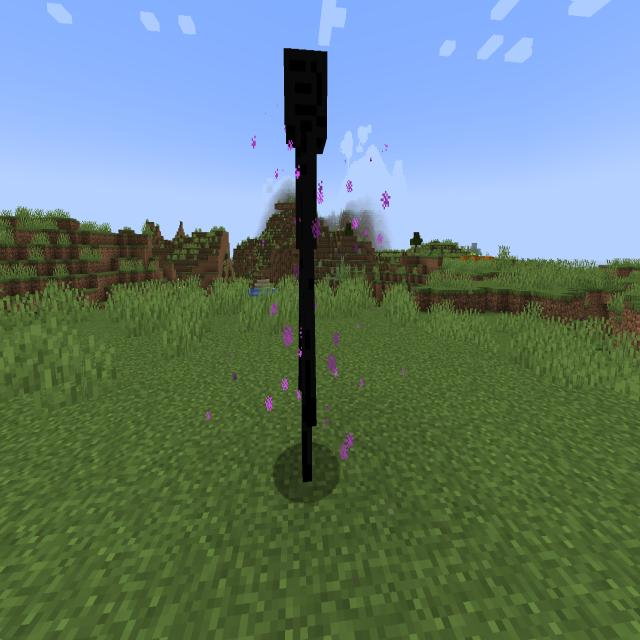Enderman: (274, 31, 345, 512)
